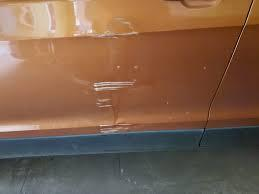scratch: (84, 12, 142, 139)
